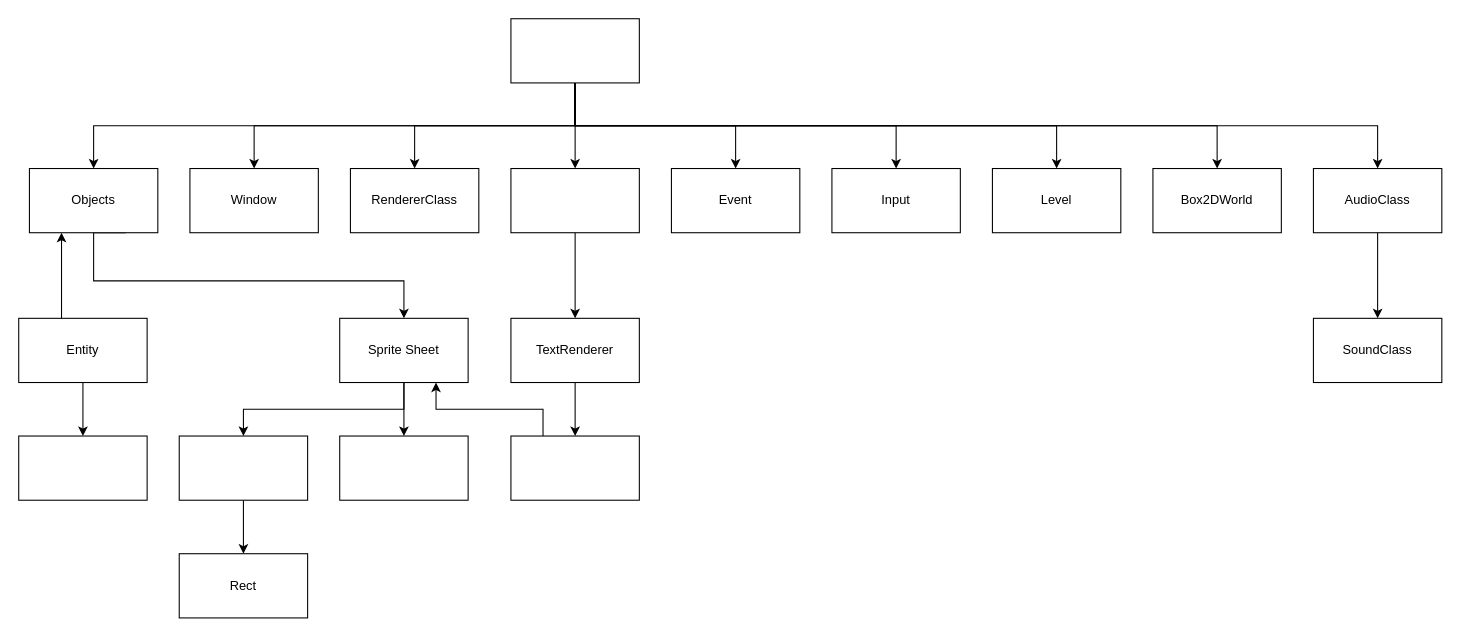
The diagram is 1461 pixels wide and 637 high, and some of its shapes have lost their labels. The shapes that lost their labels are listed below. From the top down, each one's centre as x and y in pixels, then its label:
point (574, 50): CG_GameEngine
point (574, 200): UIClass
point (82, 467): Box2DBody
point (243, 467): Sprite
point (403, 467): Animations
point (574, 467): TextSpriteSheet
